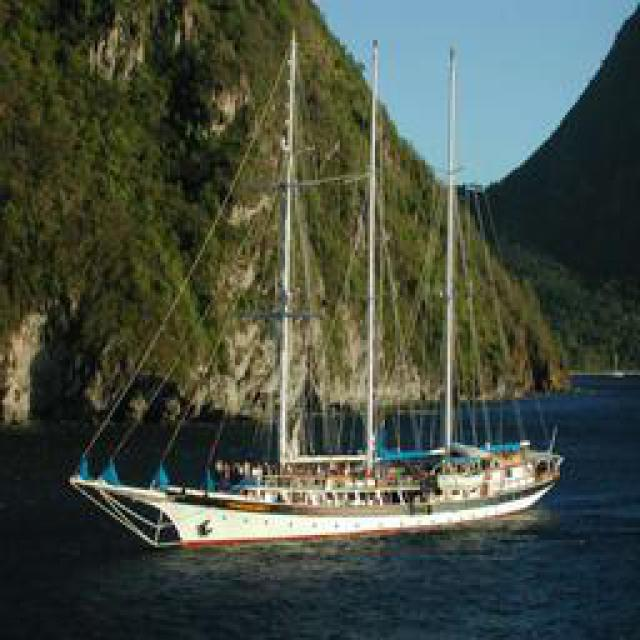Ship: (67, 375, 565, 555)
